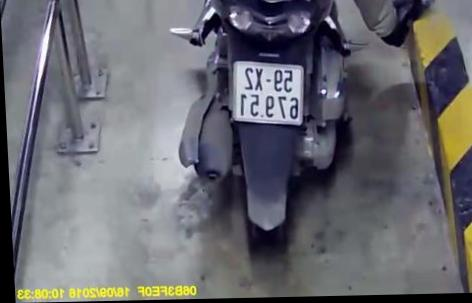License_Plate: (225, 57, 311, 131)
